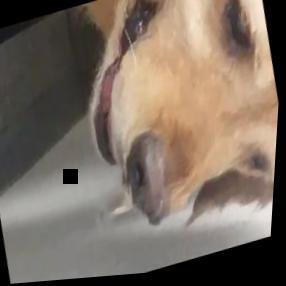nasal_discharge: (103, 176, 164, 237)
